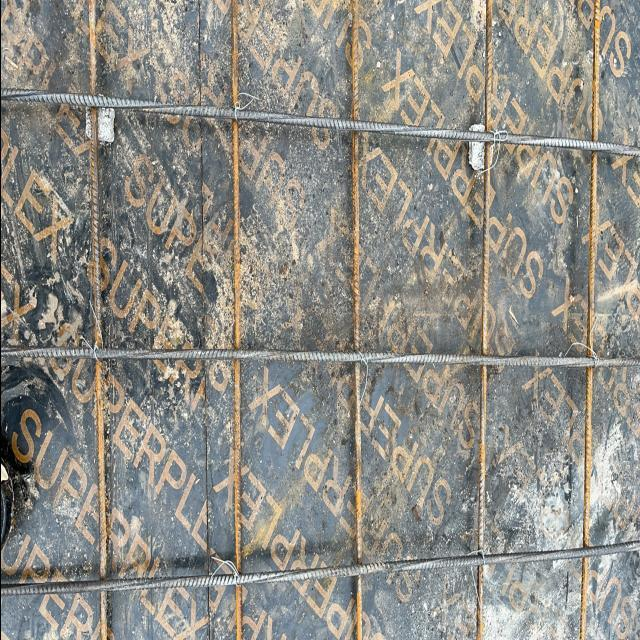ribbed bar: (1, 83, 640, 157), (1, 539, 640, 599), (1, 343, 640, 369), (578, 0, 600, 639), (87, 0, 109, 639), (475, 0, 493, 639), (230, 0, 244, 639), (351, 0, 363, 639)
